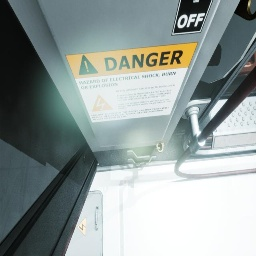SafetySwitchPanel ,: (8, 0, 256, 153)
